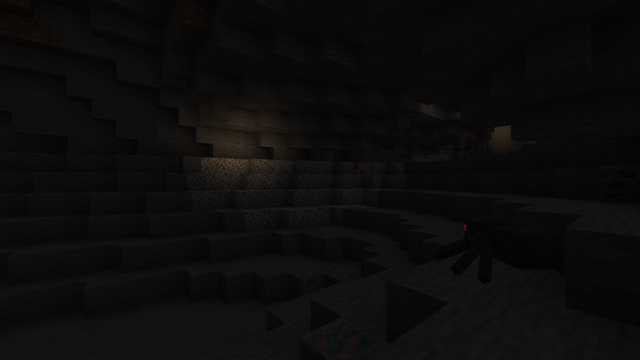araignees: (441, 212, 555, 291)
cochons: (353, 161, 370, 174)
squelettes: (456, 131, 468, 153)
